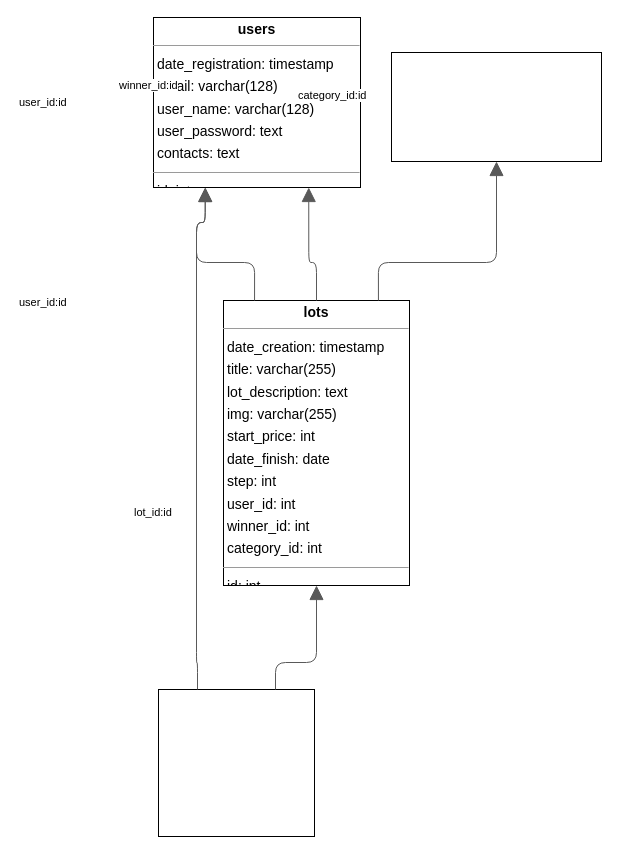
This 619x865 diagram has some shape labels left out. The box of each missing label's shape, as (x1, y1, x2, y2) in pixels:
bets date_bet: timestamp price_bet: int user_id: int lot_id: int id: int: (158, 688, 314, 836)
categories character_code: varchar(128) name_category: varchar(128) id: int: (390, 52, 602, 162)
